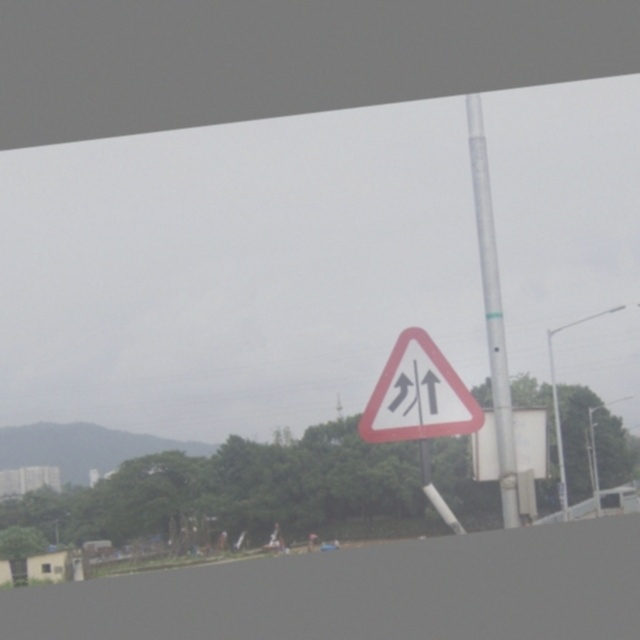Merge_Traffic_Ahead: (345, 320, 494, 452)
